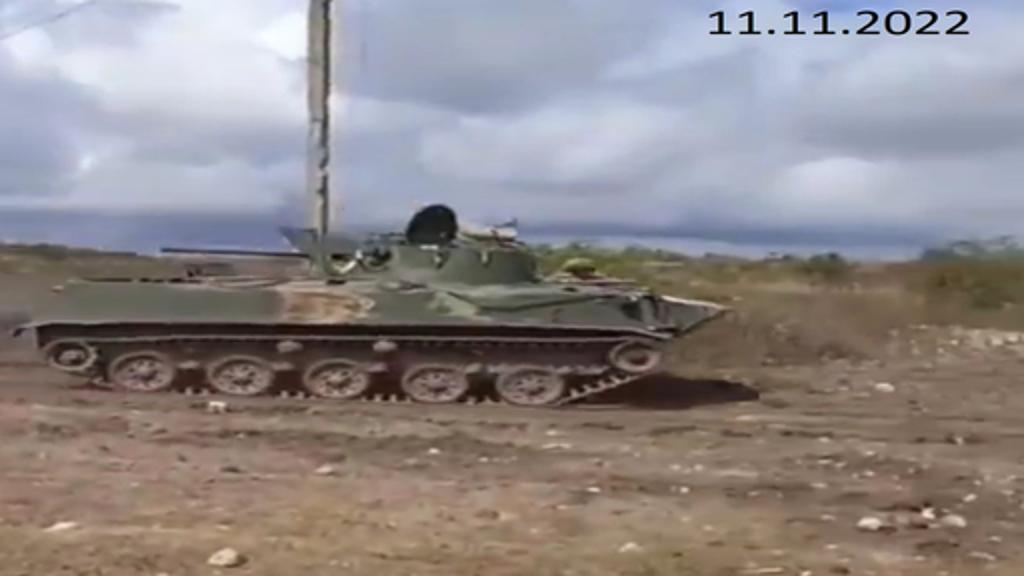APC-IFV: (14, 186, 720, 416)
